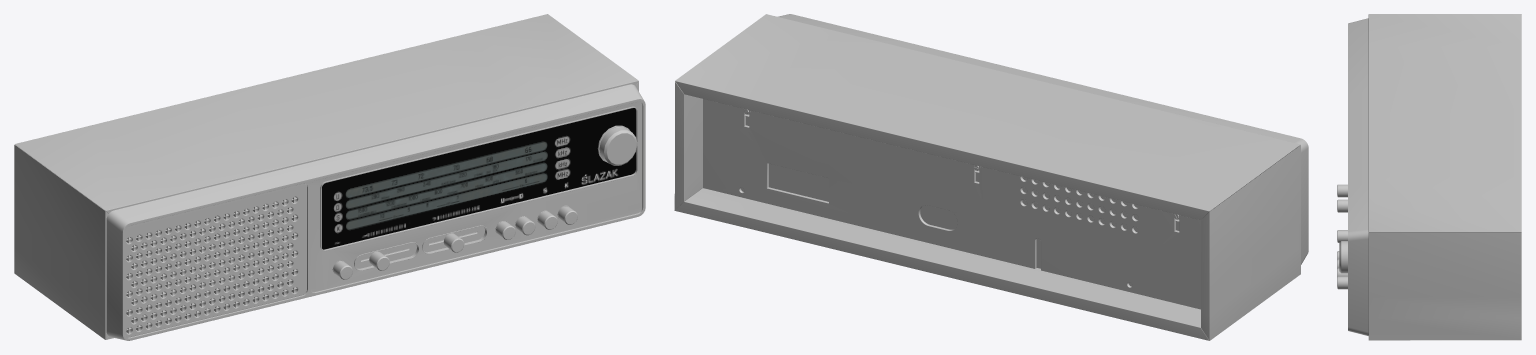
The model's file is Radio_wireless.fbx.
The picture shows the model from 3 angles, left to right: view 1: azimuth 30°, elevation 25°; view 2: azimuth 150°, elevation 25°; view 3: azimuth 270°, elevation 25°; orthographic projection. The views are drawn at different scales.
Parts seen in each view (by area): view 1: vrsek_spodek_low, predek_low, sklicko_low, repro_low, mrizka03_low, sklicko_obruba_low, soupatka_vnitrek_low, mrizka01_low, cudliky_predek02_low, cudliky_ladeni_low, mrizka02_low, cudliky_predek01_low; view 2: vrsek_spodek_low, zada_low, predek_low, pozadi_vnitrek_low; view 3: vrsek_spodek_low, predek_low, cudliky_predek02_low, cudliky_ladeni_low, cudliky_predek01_low.
Part boxes in pixels (bbox=[...]): vrsek_spodek_low: bbox=[14, 14, 638, 339]; predek_low: bbox=[106, 84, 645, 340]; sklicko_low: bbox=[322, 108, 635, 249]; repro_low: bbox=[125, 183, 306, 337]; mrizka03_low: bbox=[126, 197, 297, 330]; sklicko_obruba_low: bbox=[320, 106, 637, 251]; soupatka_vnitrek_low: bbox=[354, 225, 487, 270]; mrizka01_low: bbox=[126, 197, 294, 333]; cudliky_predek02_low: bbox=[333, 206, 577, 279]; cudliky_ladeni_low: bbox=[597, 125, 637, 165]; mrizka02_low: bbox=[131, 208, 289, 323]; cudliky_predek01_low: bbox=[369, 233, 464, 270]; vrsek_spodek_low: bbox=[674, 14, 1300, 340]; zada_low: bbox=[703, 99, 1200, 309]; predek_low: bbox=[778, 14, 1308, 264]; pozadi_vnitrek_low: bbox=[741, 116, 1179, 286]; vrsek_spodek_low: bbox=[1368, 14, 1521, 340]; predek_low: bbox=[1348, 18, 1368, 335]; cudliky_predek02_low: bbox=[1337, 184, 1347, 289]; cudliky_ladeni_low: bbox=[1339, 241, 1347, 273]; cudliky_predek01_low: bbox=[1337, 199, 1347, 242].
Size of the model in its own units: 724 by 168 by 258.
